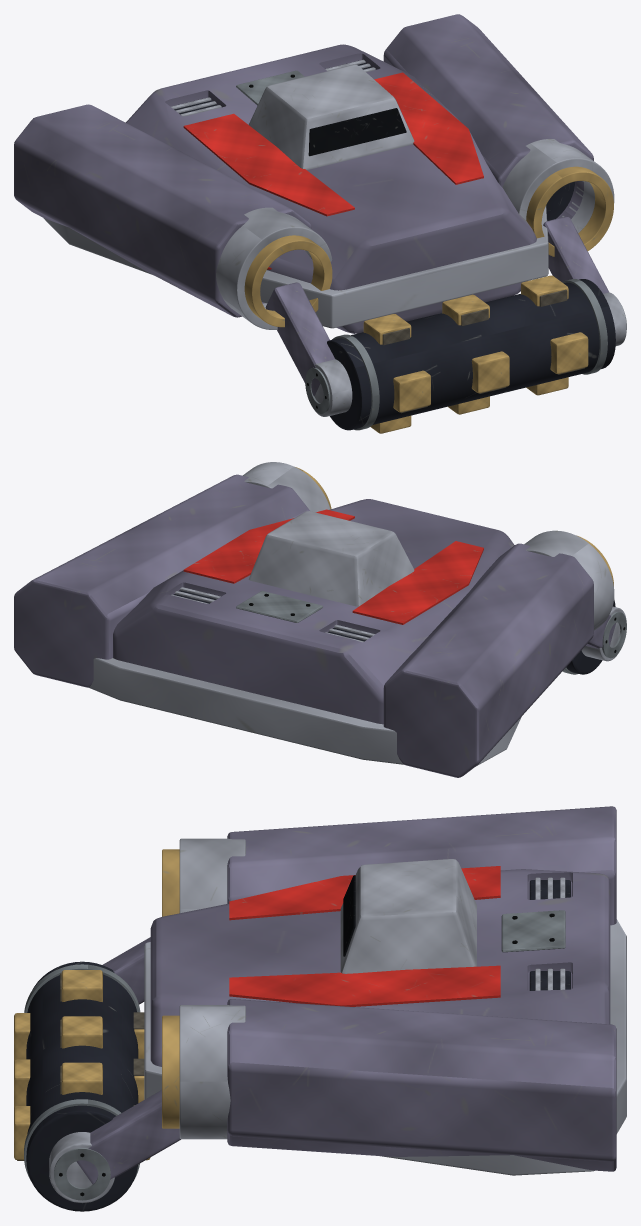
3 renders of one model, top to bottom at view 1: azimuth 30°, elevation 25°; view 2: azimuth 150°, elevation 25°; view 3: azimuth 270°, elevation 25°, orthographic. The views are drawn at different scales.
Parts seen in each view (by area): view 1: Terran solid broad utility hull, Terran integrated engine shroud -1, Terran one horizontal milling drum, Terran integrated engine shroud 1, Terran swept layered utility deck, Terran low faceted control blister, Terran swept red hood field -1, Terran swept red hood field 1, Terran silver engine casing -1, Terran silver engine casing 1, Terran stout drum bracket -1, Terran bronze nozzle rim 1 (+16 smaller); view 2: Terran solid broad utility hull, Terran integrated engine shroud -1, Terran integrated engine shroud 1, Terran swept layered utility deck, Terran low faceted control blister, Terran swept red hood field -1, Terran silver engine casing -1, Terran swept red hood field 1, Terran silver engine casing 1, Terran gasketed rear maintenance hatch, Retaining washer Terran drum end bearing -1 -1, Terran one horizontal milling drum (+1 smaller); view 3: Terran integrated engine shroud 1, Terran solid broad utility hull, Terran integrated engine shroud -1, Terran one horizontal milling drum, Terran low faceted control blister, Terran swept red hood field 1, Terran silver engine casing 1, Terran swept layered utility deck, Terran swept red hood field -1, Terran stout drum bracket 1, Terran silver engine casing -1, Terran gasketed rear maintenance hatch (+15 smaller).
Boxes of the visible parts, box(x1,y1,x2,y2) form: Terran solid broad utility hull: box(125, 44, 536, 333); Terran integrated engine shroud -1: box(14, 104, 311, 317); Terran one horizontal milling drum: box(327, 279, 615, 430); Terran integrated engine shroud 1: box(383, 14, 593, 218); Terran swept layered utility deck: box(43, 205, 548, 328); Terran low faceted control blister: box(248, 64, 414, 169); Terran swept red hood field -1: box(183, 113, 354, 216); Terran swept red hood field 1: box(374, 72, 483, 184); Terran silver engine casing -1: box(216, 207, 332, 329); Terran silver engine casing 1: box(502, 139, 614, 232); Terran stout drum bracket -1: box(265, 282, 334, 396); Terran bronze nozzle rim 1: box(526, 166, 613, 256); Terran solid broad utility hull: box(113, 499, 514, 724); Terran integrated engine shroud -1: box(383, 543, 593, 777); Terran integrated engine shroud 1: box(14, 474, 309, 687); Terran swept layered utility deck: box(89, 658, 521, 766); Terran low faceted control blister: box(248, 511, 414, 606); Terran swept red hood field -1: box(352, 541, 483, 624); Terran silver engine casing -1: box(524, 530, 614, 630); Terran swept red hood field 1: box(183, 509, 354, 583); Terran silver engine casing 1: box(243, 462, 330, 512); Terran gasketed rear maintenance hatch: box(236, 591, 322, 622); Retaining washer Terran drum end bearing -1 -1: box(602, 612, 626, 658); Terran one horizontal milling drum: box(566, 599, 615, 674); Terran integrated engine shroud 1: box(227, 999, 616, 1171); Terran solid broad utility hull: box(150, 869, 610, 1066); Terran integrated engine shroud -1: box(227, 806, 616, 925); Terran one horizontal milling drum: box(26, 961, 138, 1211); Terran low faceted control blister: box(340, 859, 476, 973); Terran swept red hood field 1: box(229, 965, 500, 1006); Terran silver engine casing 1: box(179, 1005, 245, 1139); Terran swept layered utility deck: box(144, 919, 626, 1175); Terran swept red hood field -1: box(229, 866, 500, 920); Terran stout drum bracket 1: box(76, 1090, 180, 1184); Terran silver engine casing -1: box(179, 838, 245, 913); Terran gasketed rear maintenance hatch: box(501, 910, 565, 952).
Bounding box in the file's own units: 3.14 × 1.41 × 2.96.
9 materials, 9 textured.
